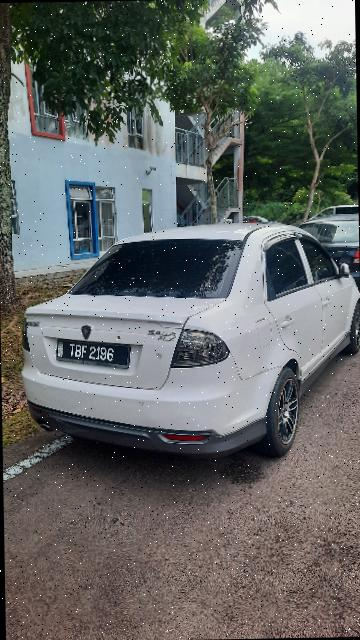License_Plate: (51, 336, 134, 373)
car: (17, 221, 360, 466)
